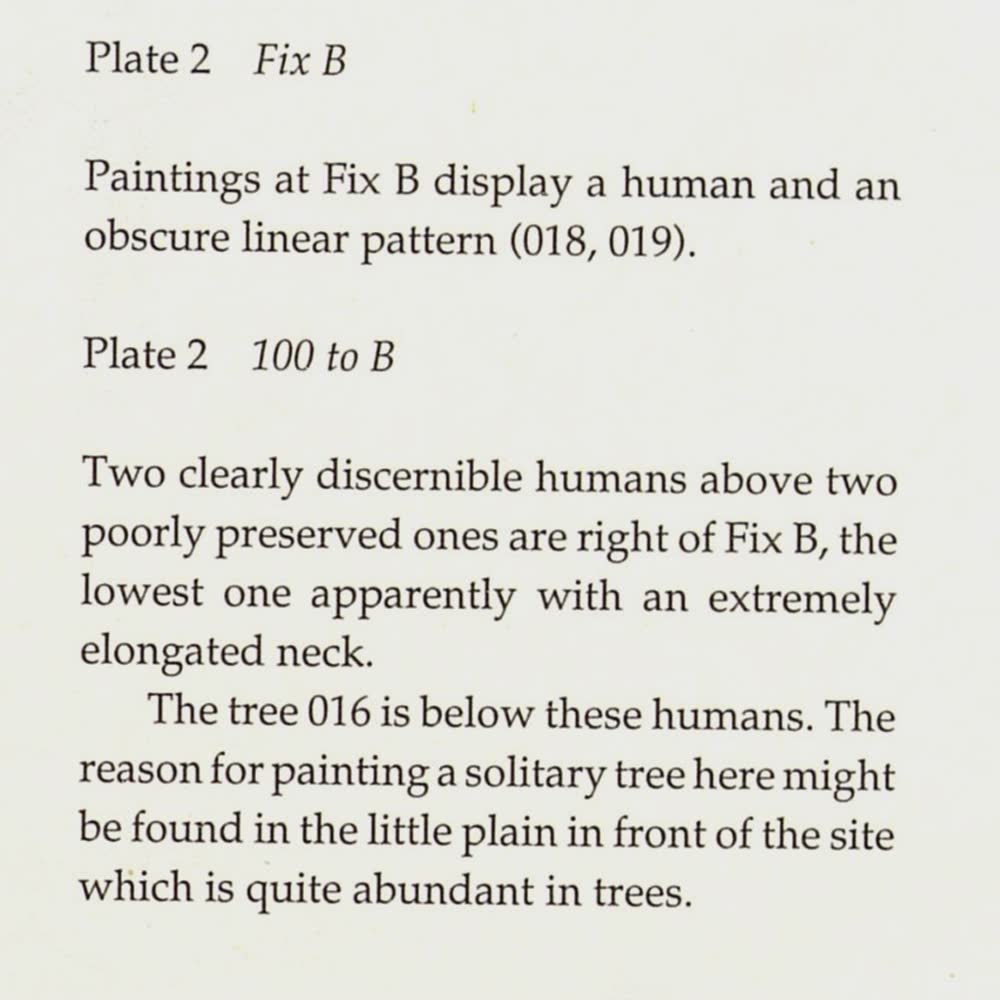text: (73, 328, 908, 928), (77, 32, 906, 270)
